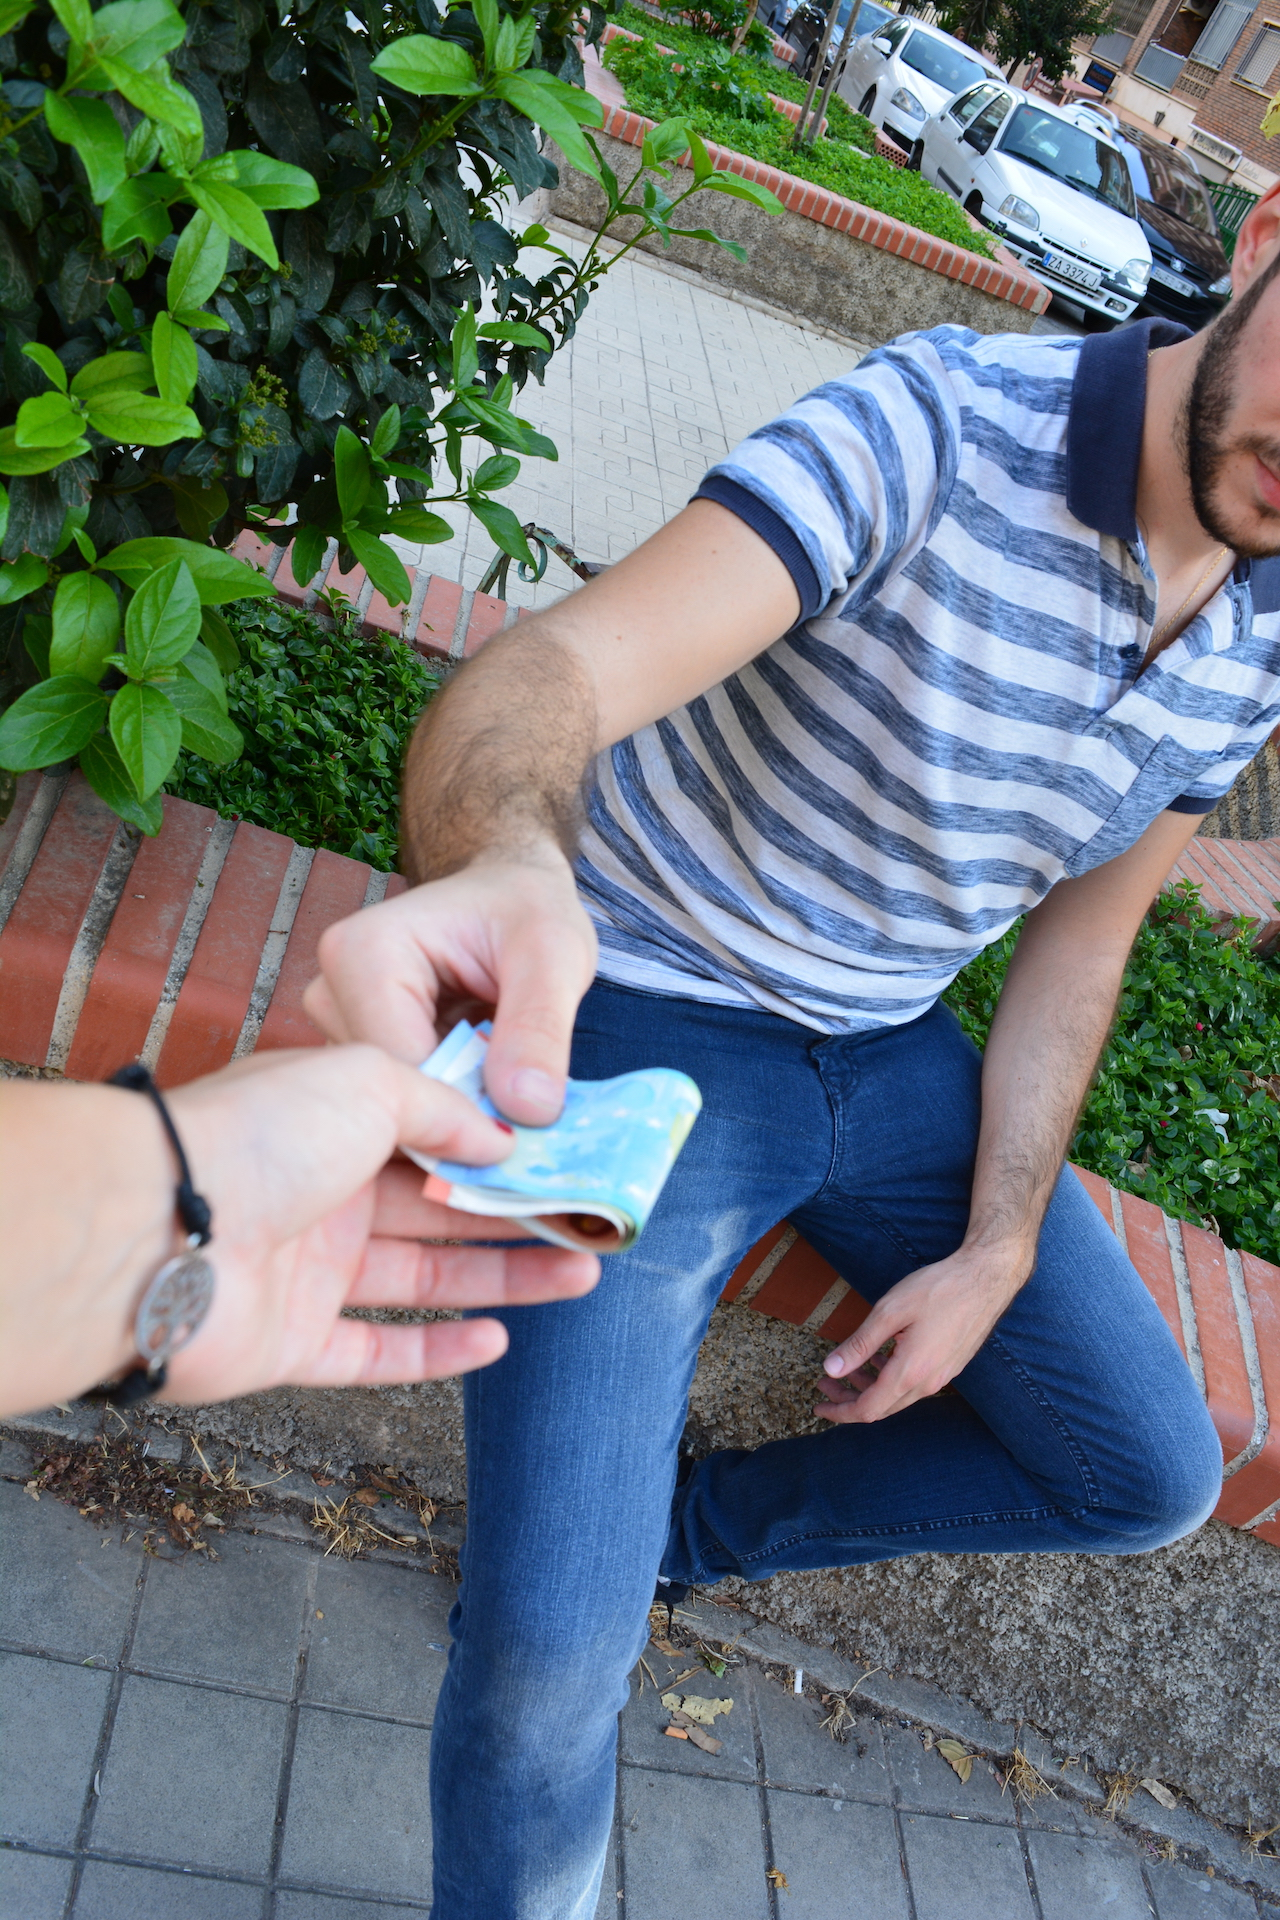billete: (396, 1019, 704, 1256)
